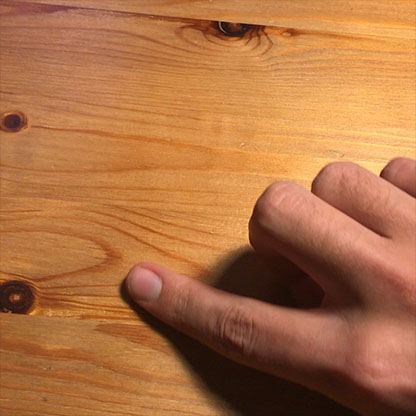fingertip: (121, 256, 170, 318)
